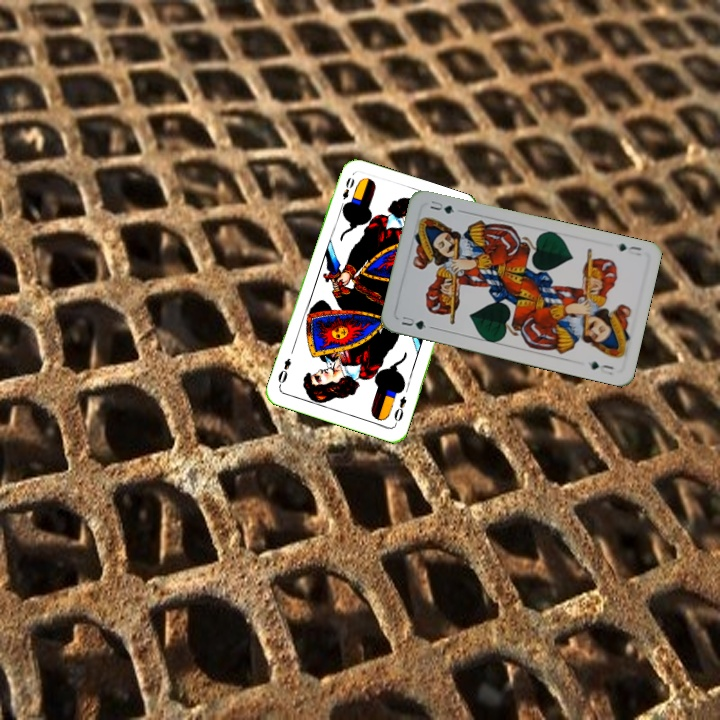EO: (336, 173, 357, 211), (390, 392, 409, 427)
GU: (397, 312, 435, 332), (615, 239, 644, 259)
